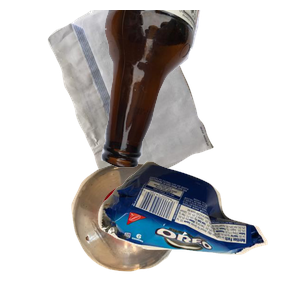glass: (99, 10, 300, 170)
paper: (45, 10, 251, 190)
plastic: (69, 161, 245, 300)
trash: (95, 158, 300, 300)
